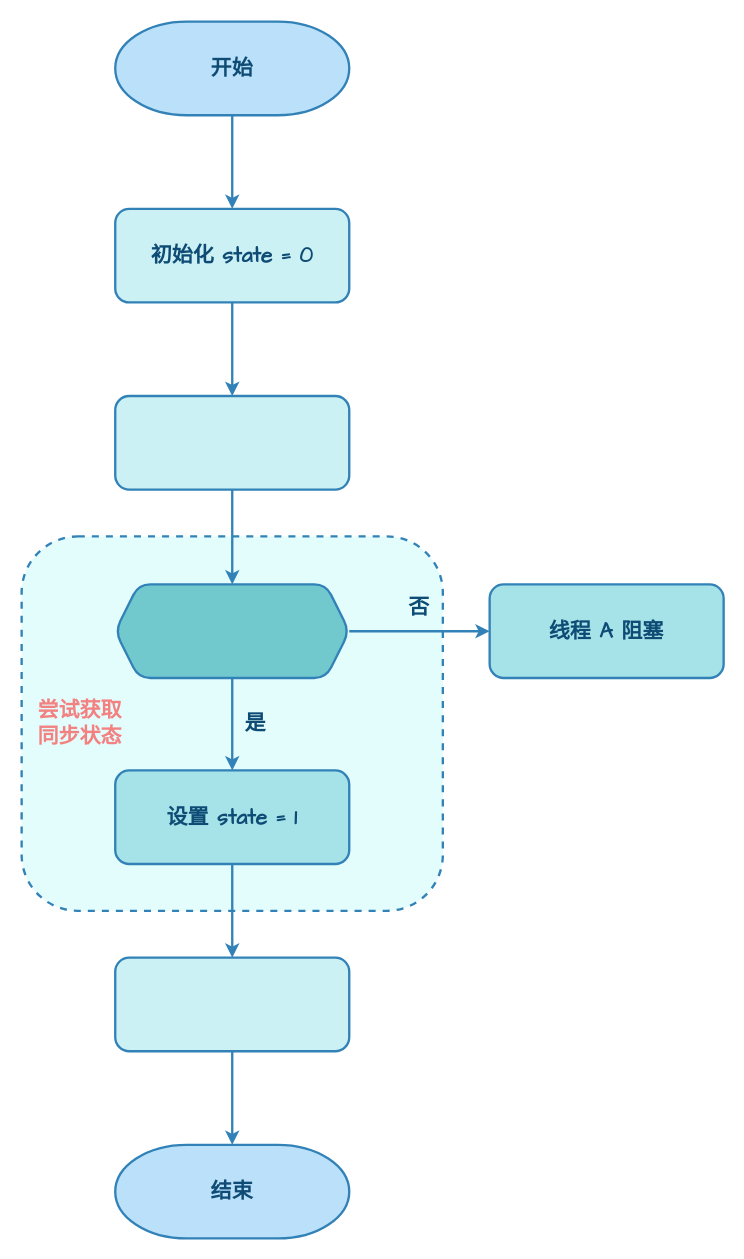
The diagram is 744 pixels wide and 1259 high, and some of its shapes have lost their labels. The shapes that lost their labels are listed below. From the top down, each one's box as (x1, y1, x2, y2) in pixels, then its label:
(113, 394, 350, 490): 线程 A 独占
(113, 583, 350, 679): state 是否为 0
(113, 956, 350, 1052): 后续操作
